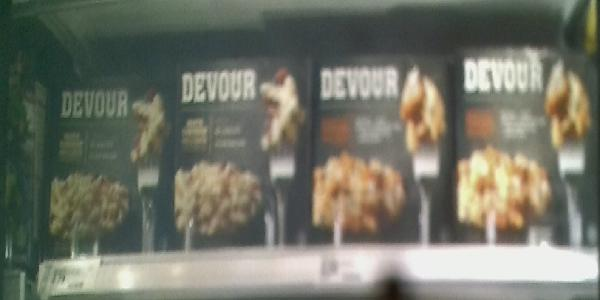pizza1: (459, 44, 596, 249), (310, 52, 457, 243), (170, 57, 307, 249), (44, 75, 170, 251)
